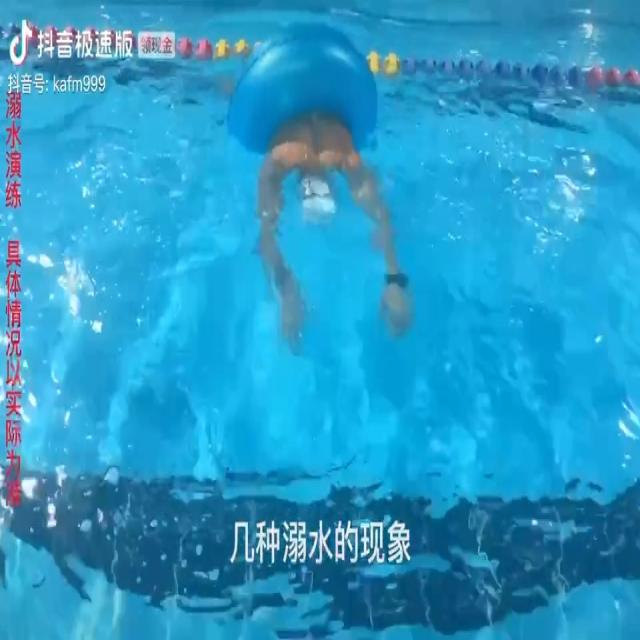Drowning: (244, 85, 418, 350)
